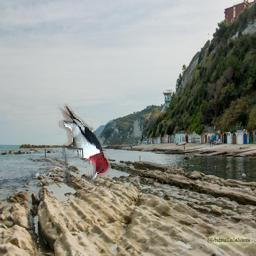Woodpecker: (57, 103, 111, 183)
